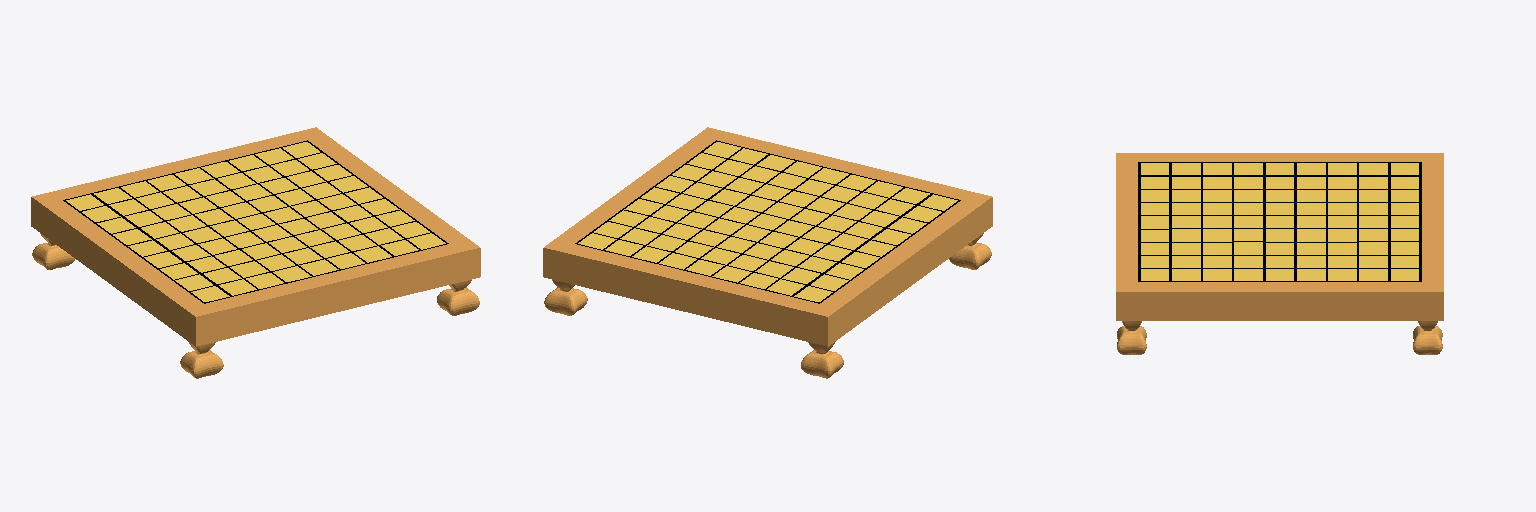
3 renders of one model, left to right at view 1: azimuth 30°, elevation 25°; view 2: azimuth 150°, elevation 25°; view 3: azimuth 270°, elevation 25°, orthographic.
Visible parts, largest first — view 1: Cube; view 2: Cube; view 3: Cube.
Part boxes in pixels (left/top/right/bottom): Cube: left=31, top=127, right=480, bottom=378; Cube: left=543, top=127, right=992, bottom=378; Cube: left=1116, top=153, right=1443, bottom=354.
Bounding box in the file's own units: 20.17 × 4.55 × 20.
Materials: 2 (2 with a texture image).